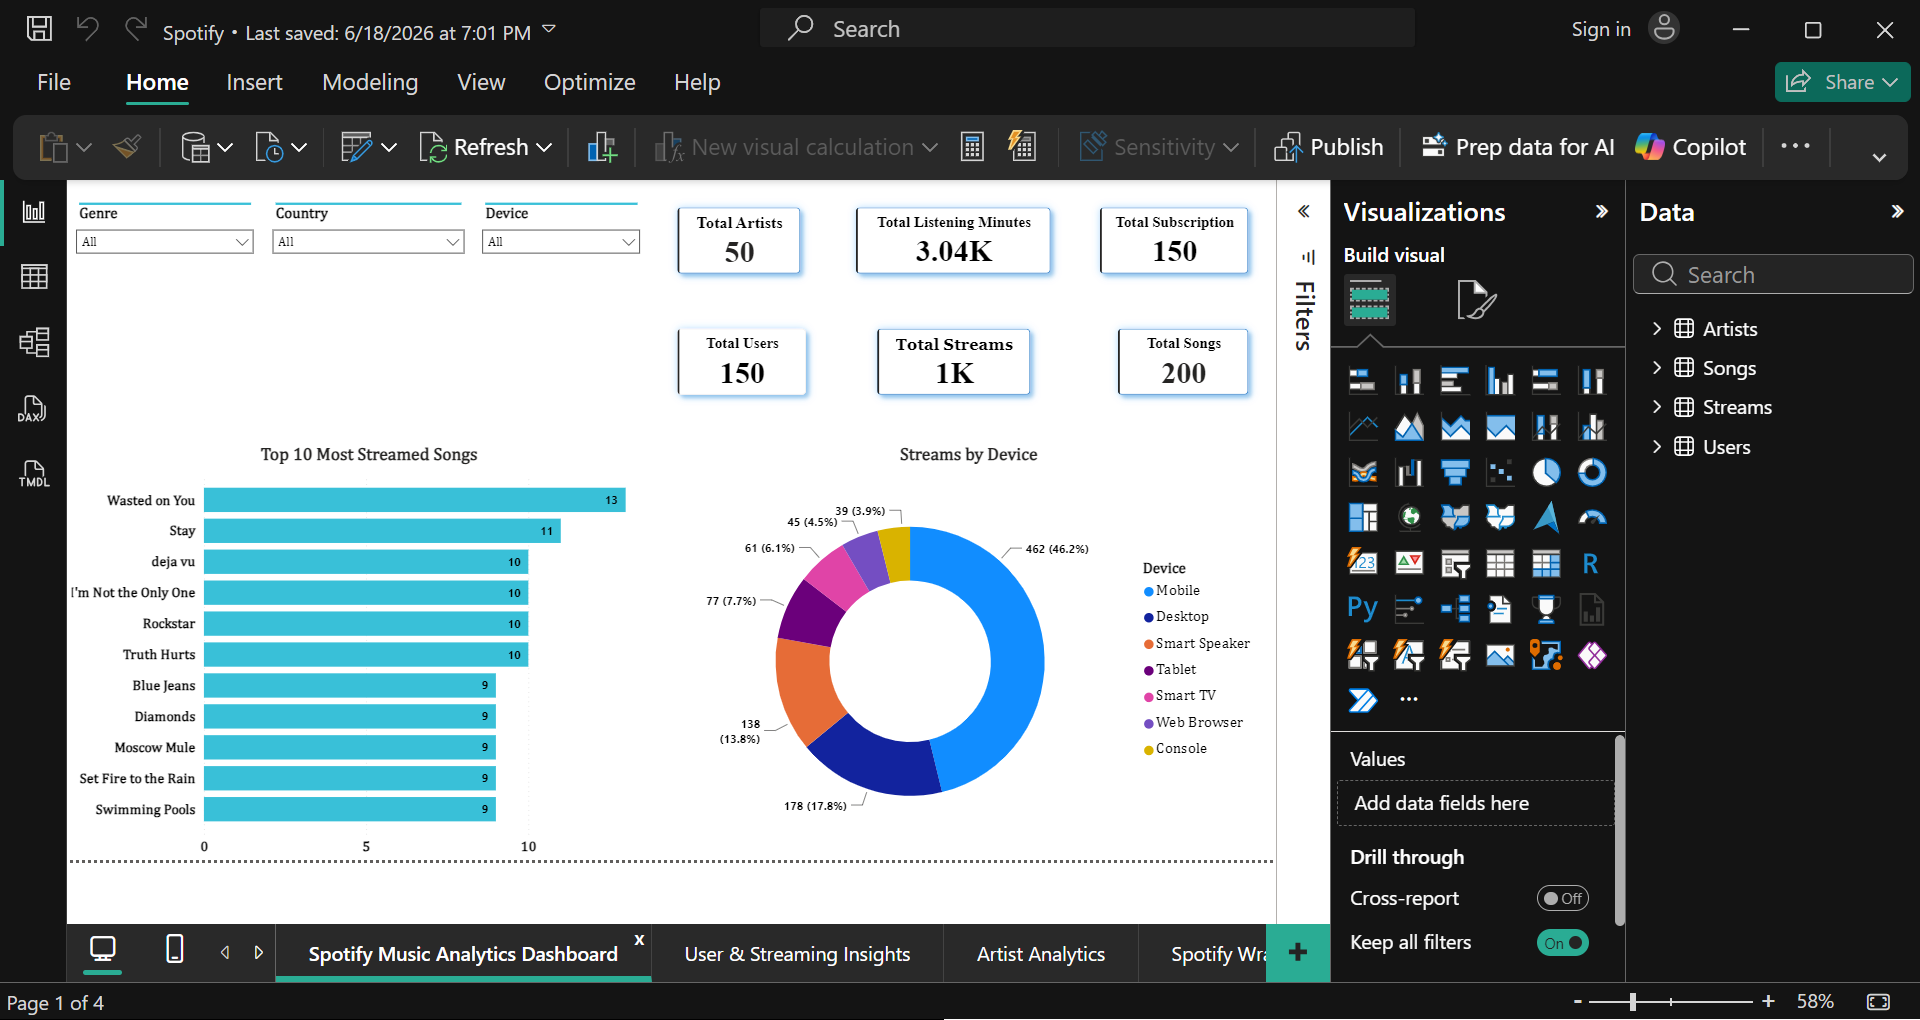

The dashboard page shown, as its layout file describes it:
{"tool":"powerbi","page":{"name":"Spotify Music Analytics Dashboard","canvas":[1280,720],"ordinal":0},"visuals":[{"type":"cardVisual","fields":{"Data":["CountNonNull(Streams.Stream_ID)"]},"box":[828.3,128.3,220.8,128.3],"z":0},{"type":"cardVisual","fields":{"Data":["CountNonNull(Spotify Users.User_ID)"]},"box":[617,128.3,194.3,128.3],"z":1000},{"type":"cardVisual","fields":{"Data":["CountNonNull(Top 50 Artists.Artist_ID)"]},"box":[617,0,188.7,128.3],"z":2000},{"type":"cardVisual","fields":{"Data":["CountNonNull(Top Songs.Song_ID)"]},"box":[1083,128.3,196.2,128.3],"z":3000},{"type":"cardVisual","fields":{"Data":["Sum(Streams.Minutes_Listened)"]},"box":[805.7,0,264.2,128.3],"z":4000},{"type":"cardVisual","fields":{"Data":["CountNonNull(Spotify Users.Subscription_Type)"]},"box":[1064.2,0,215.1,128.3],"z":5000},{"type":"clusteredBarChart","title":"Top 10 Most Streamed Songs","fields":{"Y":["CountNonNull(Streams.Stream_ID)"],"Category":["Top Songs.Song_Name"]},"box":[0,281.1,639.6,439.6],"z":6000},{"type":"donutChart","title":"Streams by Device","fields":{"Category":["Streams.Device"],"Y":["CountNonNull(Streams.Stream_ID)"]},"box":[640.4,280.7,626.3,438.6],"z":7000},{"type":"slicer","fields":{"Values":["Artists.Genre"]},"box":[0,18.9,207.5,150.9],"z":8000},{"type":"slicer","fields":{"Values":["Users.Country"]},"box":[207.5,18.9,222.6,150.9],"z":9000},{"type":"slicer","fields":{"Values":["Streams.Device"]},"box":[430.2,18.9,186.8,150.9],"z":10000}]}

Visuals, with their boxes on the page's 1280x720 design canvas (x1, y1, x2, y2). These are canvas units, not pixel positions in the 1920x1020 screenshot, which may show the page scaled, cropped or inside an application window:
cardVisual - CountNonNull(Streams.Stream_ID): (left=828, top=128, right=1049, bottom=257)
cardVisual - CountNonNull(Spotify Users.User_ID): (left=617, top=128, right=811, bottom=257)
cardVisual - CountNonNull(Top 50 Artists.Artist_ID): (left=617, top=0, right=806, bottom=128)
cardVisual - CountNonNull(Top Songs.Song_ID): (left=1083, top=128, right=1279, bottom=257)
cardVisual - Sum(Streams.Minutes_Listened): (left=806, top=0, right=1070, bottom=128)
cardVisual - CountNonNull(Spotify Users.Subscription_Type): (left=1064, top=0, right=1279, bottom=128)
"Top 10 Most Streamed Songs" clusteredBarChart: (left=0, top=281, right=640, bottom=721)
"Streams by Device" donutChart: (left=640, top=281, right=1267, bottom=719)
slicer - Artists.Genre: (left=0, top=19, right=208, bottom=170)
slicer - Users.Country: (left=208, top=19, right=430, bottom=170)
slicer - Streams.Device: (left=430, top=19, right=617, bottom=170)
